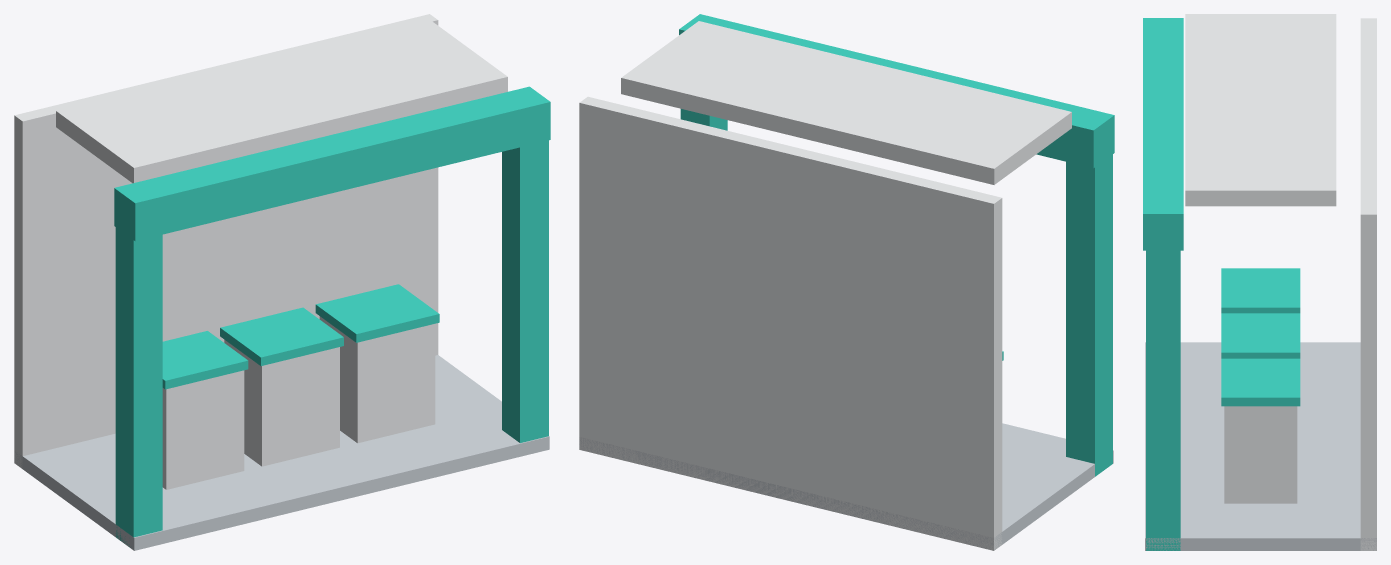
3 renders of one model, left to right at view 1: azimuth 30°, elevation 25°; view 2: azimuth 150°, elevation 25°; view 3: azimuth 270°, elevation 25°, orthographic. The views are drawn at different scales.
Parts seen in each view (by area): view 1: Exhibition Booth Concept; view 2: Exhibition Booth Concept; view 3: Exhibition Booth Concept.
Boxes of the visible parts, box(x1,y1,x2,y2) form: Exhibition Booth Concept: box(14, 14, 550, 550); Exhibition Booth Concept: box(579, 14, 1114, 550); Exhibition Booth Concept: box(1143, 14, 1376, 550).
Bounding box in the file's own units: 4 × 3.34 × 2.01.
